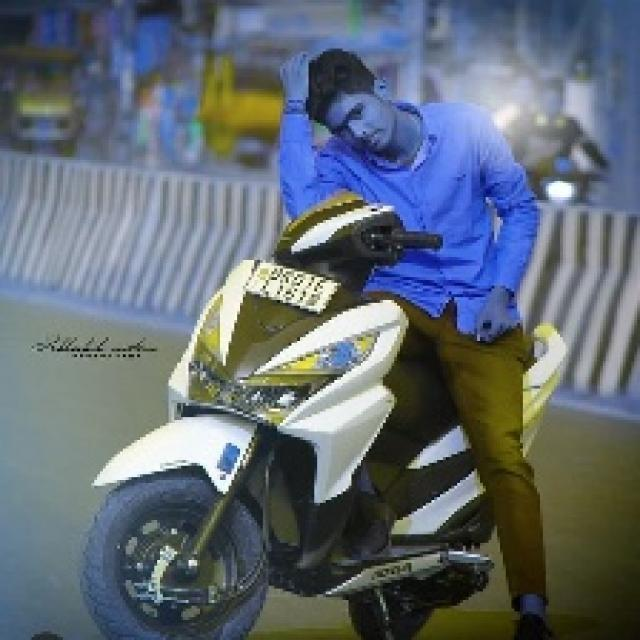bike: (73, 223, 488, 639)
